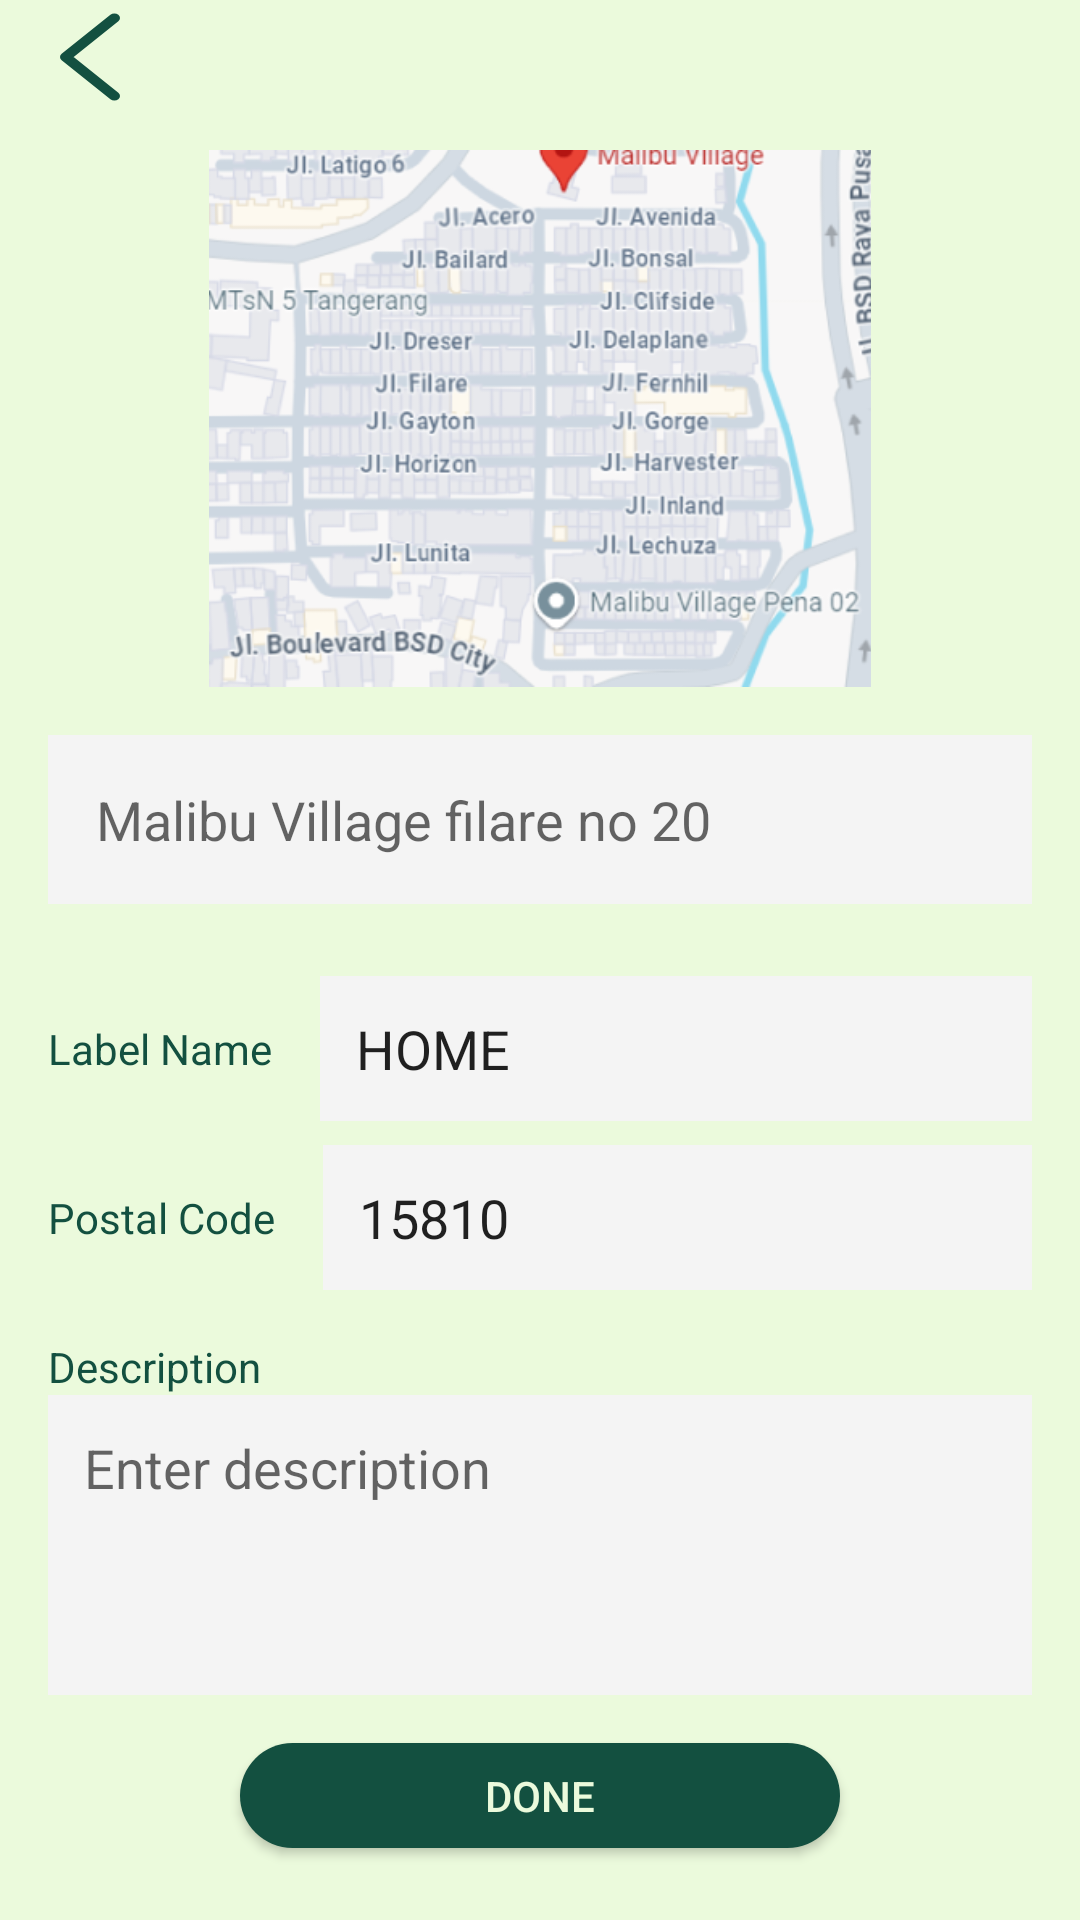

Locate icon controls on the screen. Image size 1080 × 1920, boxes as (x1, y1, x2, y2).
backbutton: (60, 13, 120, 101)
